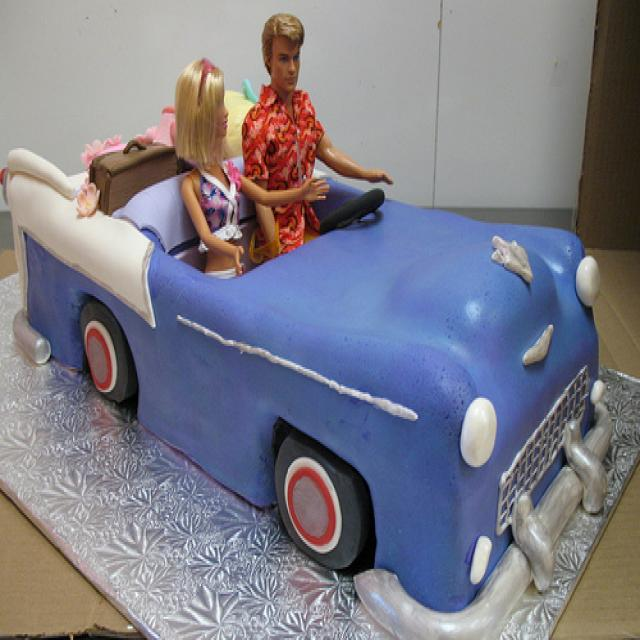Car: (15, 71, 598, 638)
